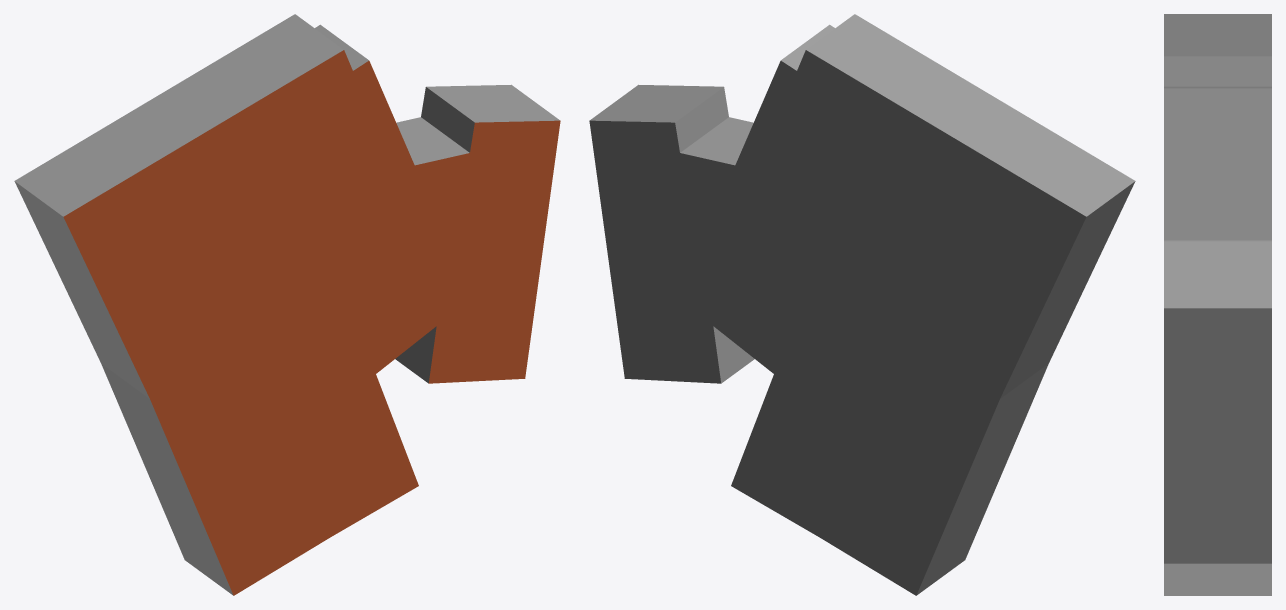
The model's file is construction_5851_assumed_A_Casa_h6m.obj.
3 views of the same model, side by side, from view 1: azimuth 30°, elevation 25°; view 2: azimuth 150°, elevation 25°; view 3: azimuth 270°, elevation 25° (orthographic). The views are drawn at different scales.
Visible parts, largest first — view 1: construction_5851_assumed_A_Casa; view 2: construction_5851_assumed_A_Casa; view 3: construction_5851_assumed_A_Casa.
Part boxes in pixels (left/top/right/bottom): construction_5851_assumed_A_Casa: left=14, top=14, right=560, bottom=595; construction_5851_assumed_A_Casa: left=589, top=14, right=1135, bottom=595; construction_5851_assumed_A_Casa: left=1164, top=14, right=1271, bottom=595.
Size of the model in its own units: 35.15 by 35.07 by 6.
